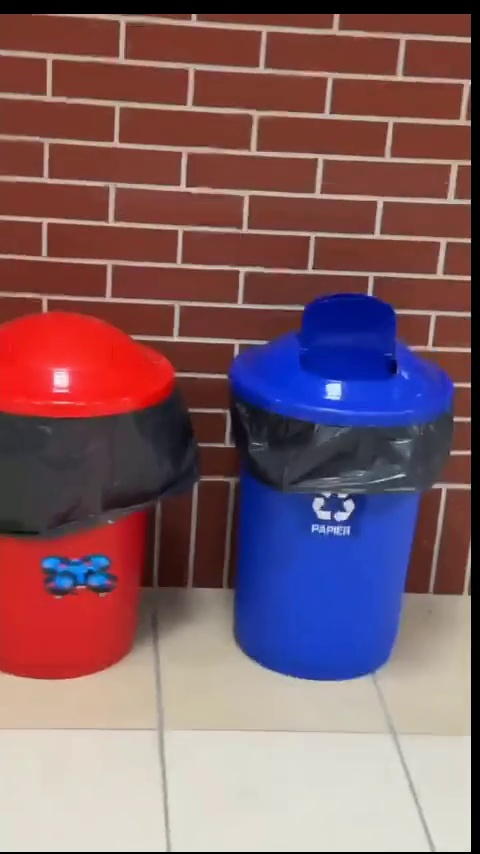drone: (42, 555, 114, 600)
